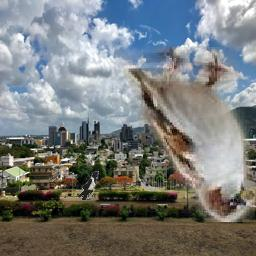Crow: (77, 172, 99, 201)
Sparrow: (111, 48, 256, 223)
